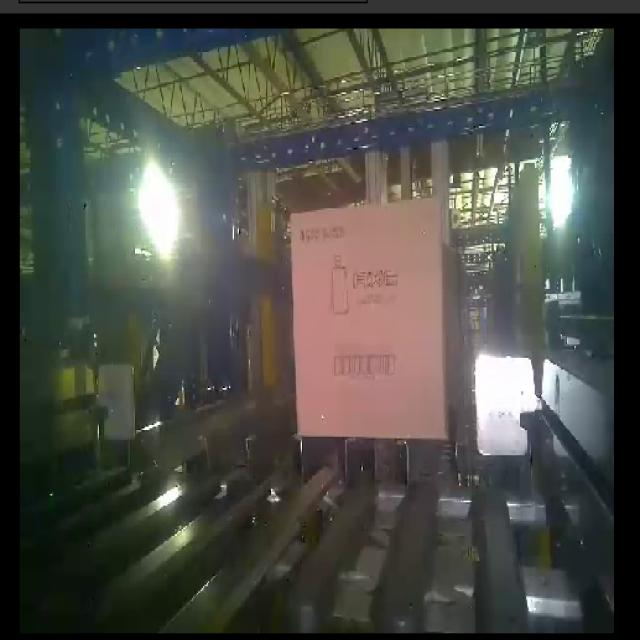box: (290, 195, 448, 444)
